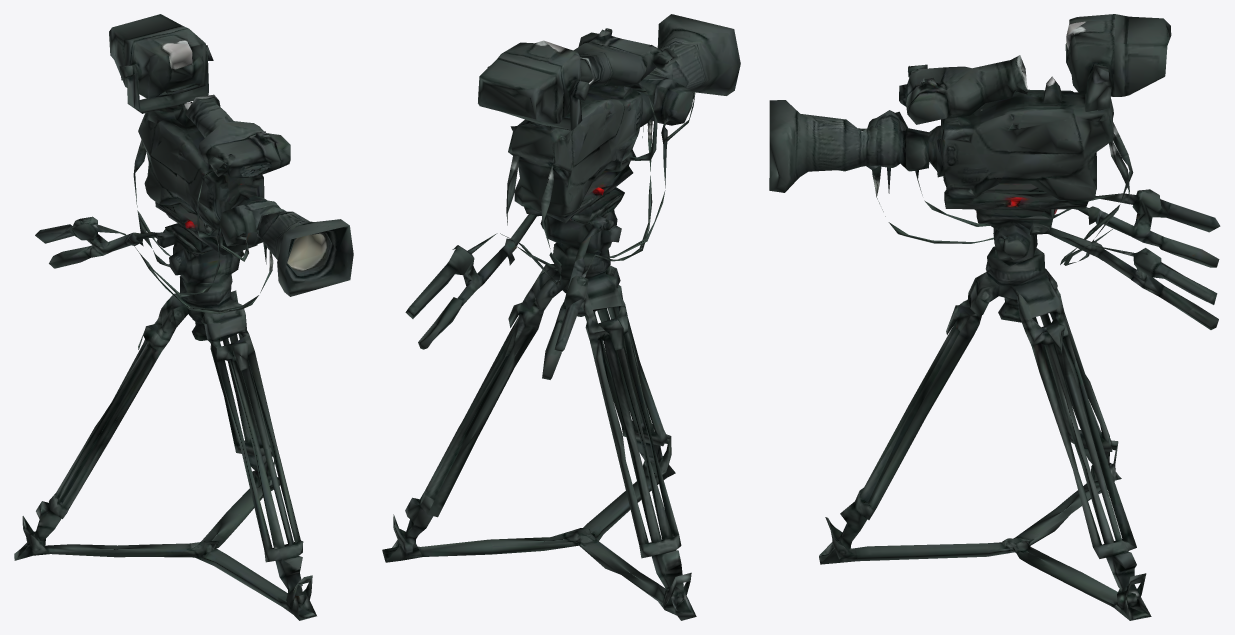
The model's file is camara_tv.glb.
3 renders of one model, left to right at view 1: azimuth 30°, elevation 25°; view 2: azimuth 150°, elevation 25°; view 3: azimuth 270°, elevation 25°, orthographic. The views are drawn at different scales.
Parts seen in each view (by area): view 1: tripo_node_573dc1b8-d690-4a8a-bf42-14d2a8dc849b; view 2: tripo_node_573dc1b8-d690-4a8a-bf42-14d2a8dc849b; view 3: tripo_node_573dc1b8-d690-4a8a-bf42-14d2a8dc849b.
Boxes of the visible parts, x1,y1,x2,y2 form: tripo_node_573dc1b8-d690-4a8a-bf42-14d2a8dc849b: (14, 14, 353, 620); tripo_node_573dc1b8-d690-4a8a-bf42-14d2a8dc849b: (382, 14, 740, 620); tripo_node_573dc1b8-d690-4a8a-bf42-14d2a8dc849b: (769, 14, 1220, 620).
Size of the model in its own units: 0.7177 by 1.2 by 0.9268.
Materials: 1 (1 with a texture image).
